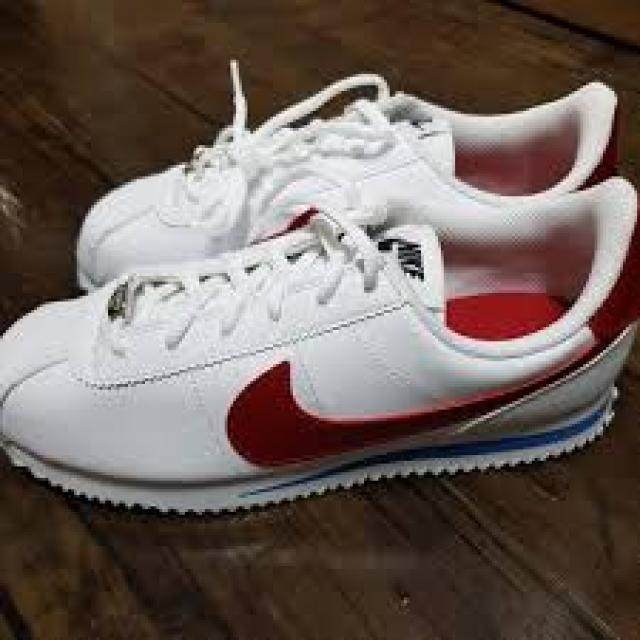shoe: (14, 185, 640, 517), (70, 98, 635, 291)
